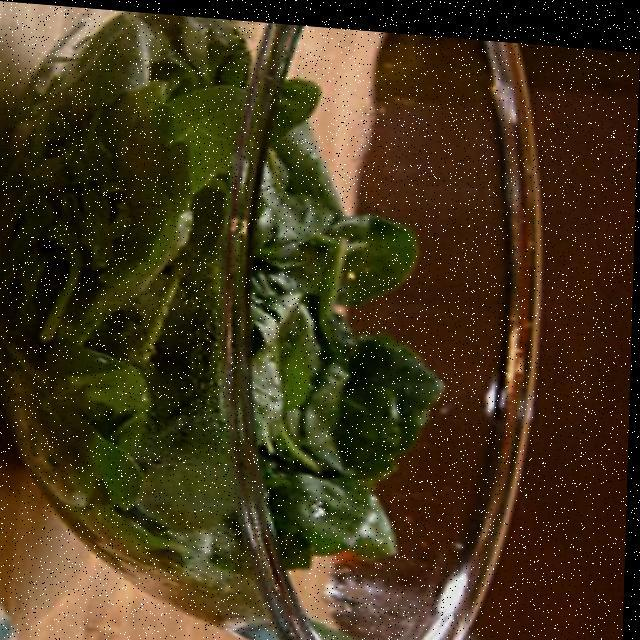Spinach: (0, 0, 462, 634)
